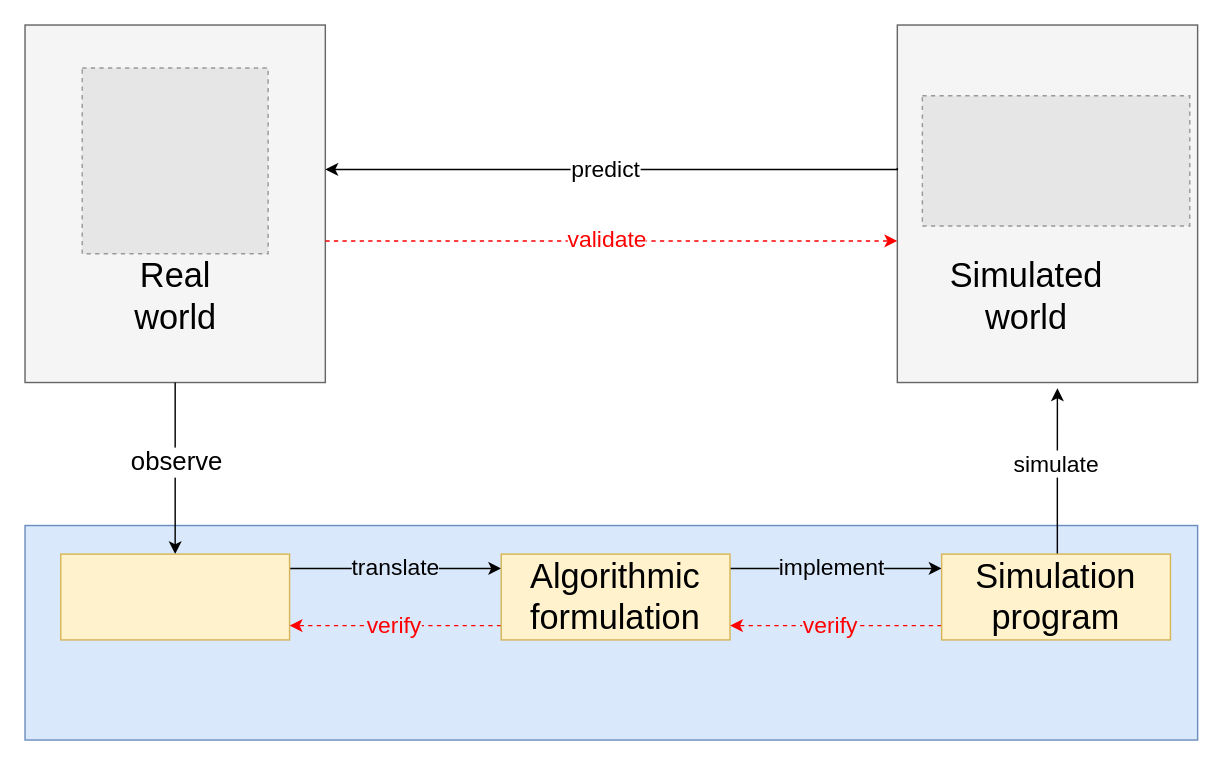
Image size: 1223x765. Some labels were removed from this diagram. Grey dashed boxes stand in for pictures. The box of each missing label's shape, as (x1, y1, x2, y2) in pixels:
Locomotion model: (59, 553, 290, 640)
Modeling: (24, 524, 1198, 740)
